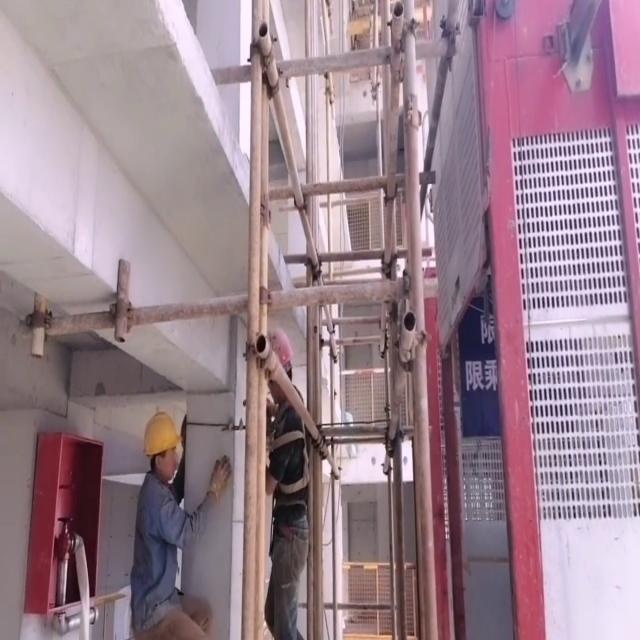Arnes_seguridad: (267, 400, 311, 511)
